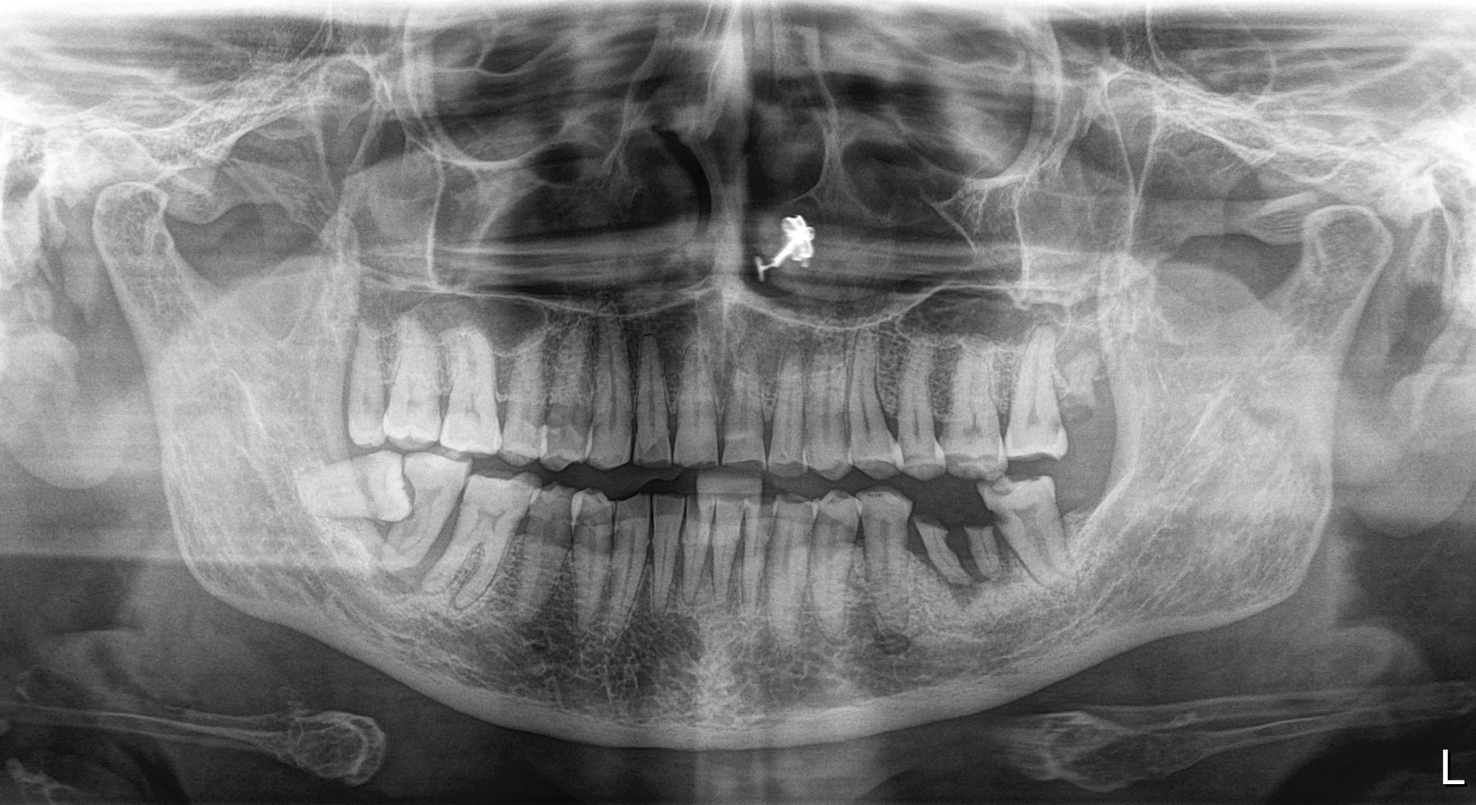Impacted Third Molar: (306, 448, 412, 526)
Missing Tooth: (1070, 473, 1135, 571)
Periapical Lesion: (396, 493, 485, 600)
Retained Root: (1063, 351, 1113, 446), (917, 495, 961, 590)
